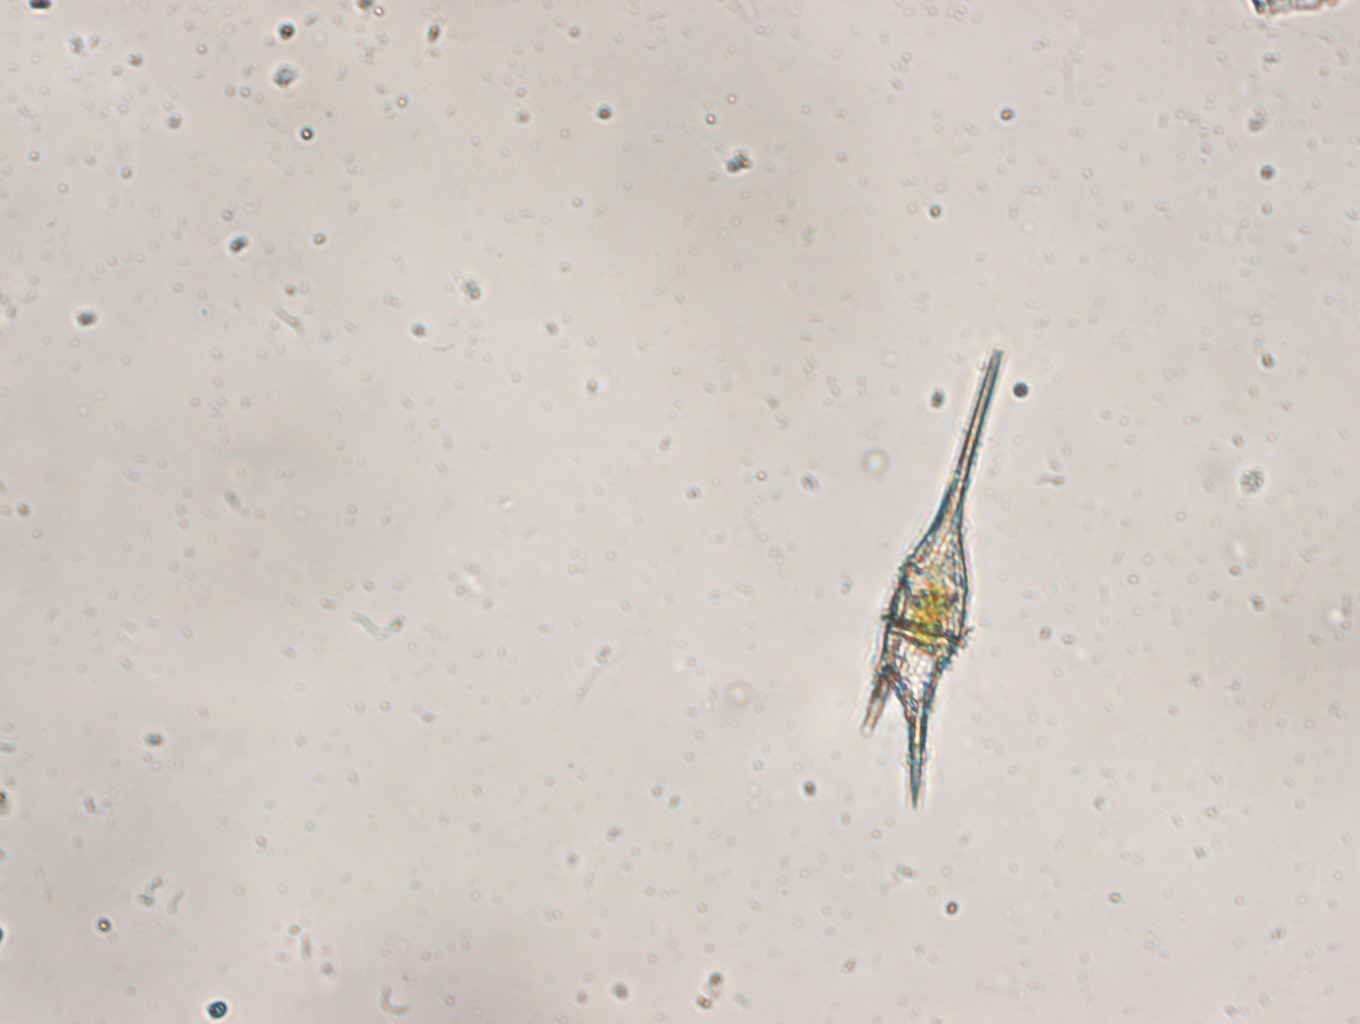ceratium furca: (850, 336, 1011, 810)
